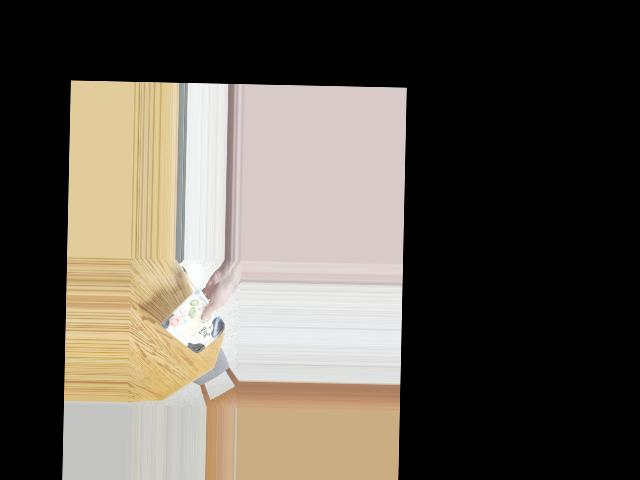cheese: (169, 299, 225, 347)
